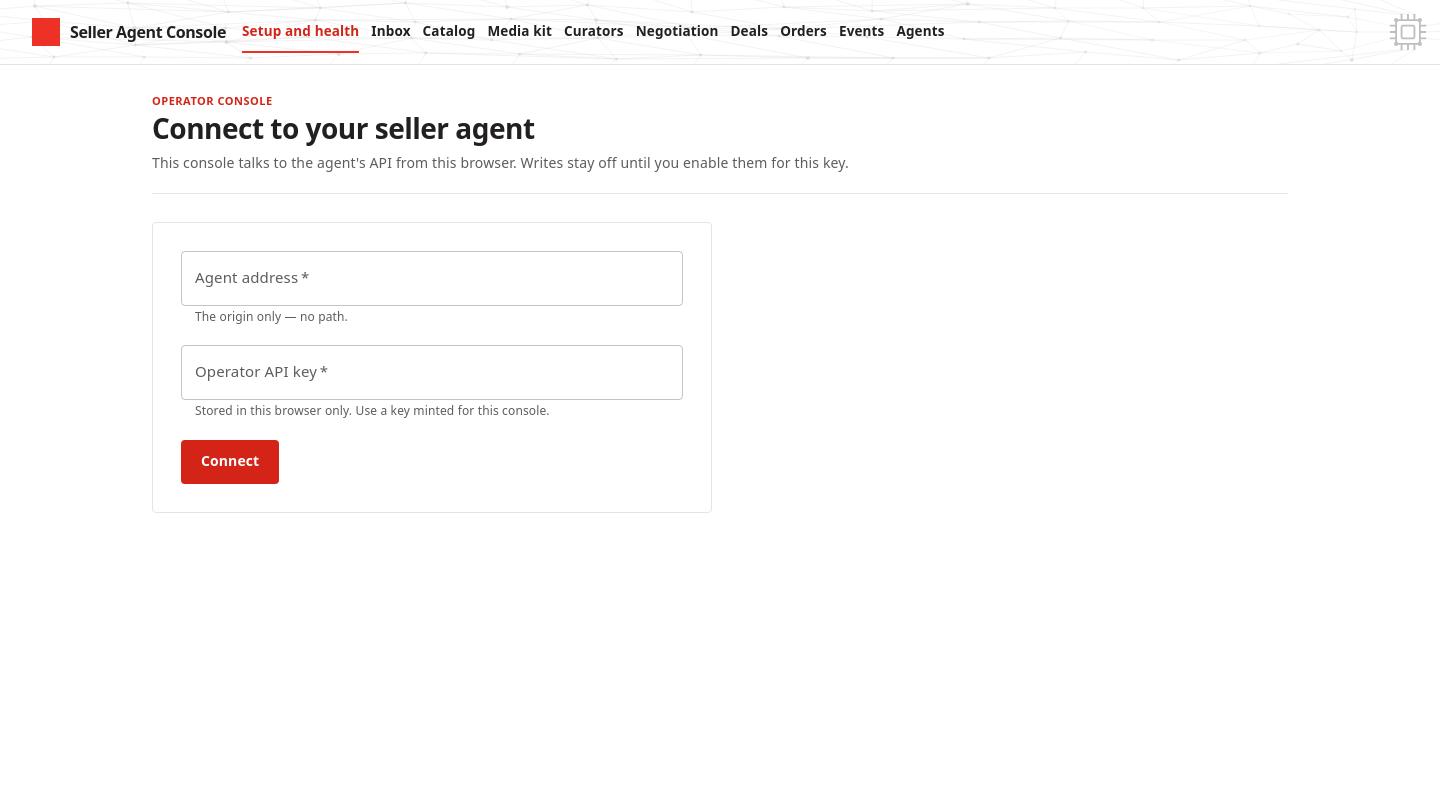
Test: shell navigation › navigates between screens and moves aria-current with it
Click the link "Orders". click: click(804, 31)
box: top-left (780, 22), bottom-right (827, 40)
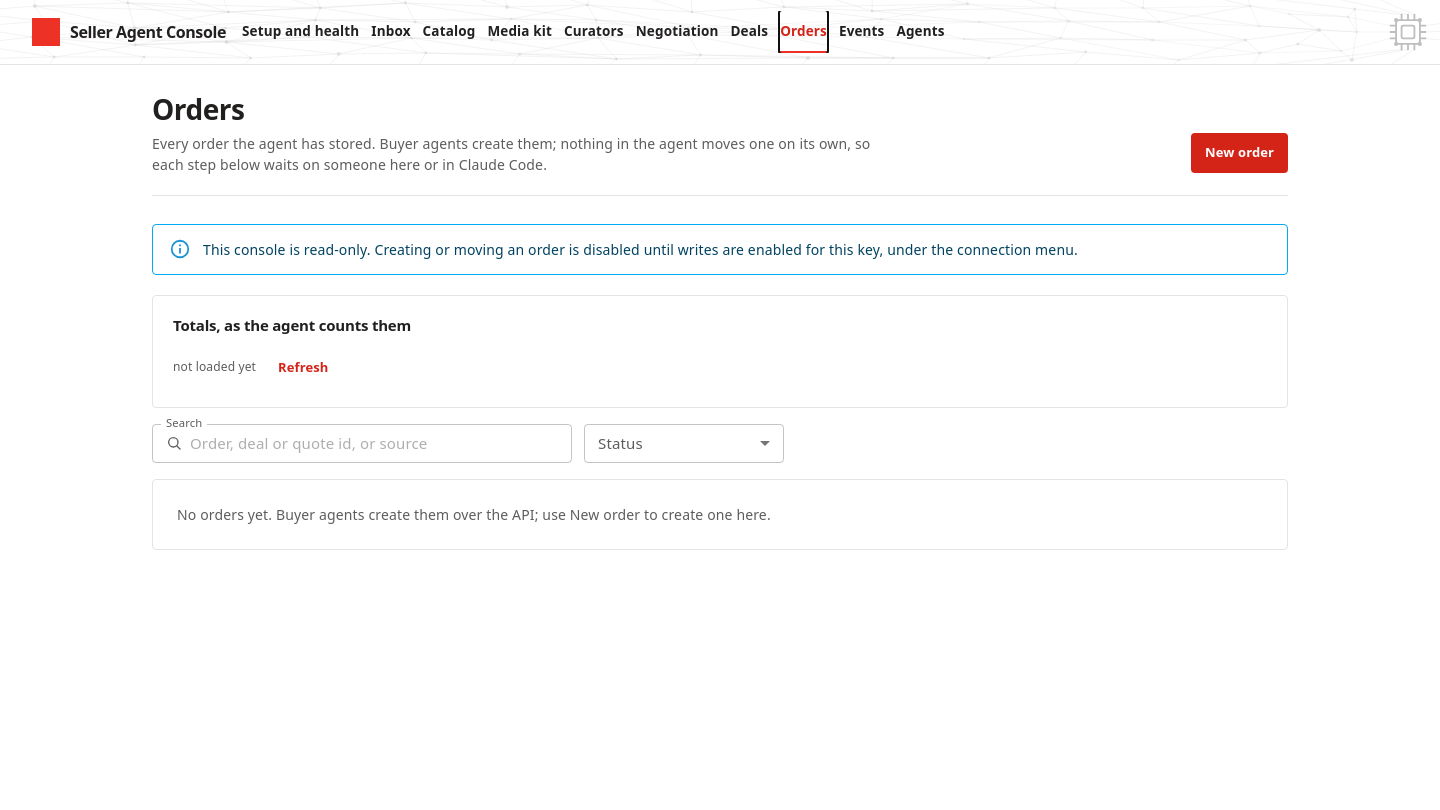
Expected: the element that starts with "Orders" is shown, top-left (152, 93), bottom-right (1288, 550)
Result: the heading "Orders" is shown at top-left (152, 90), bottom-right (244, 128)
